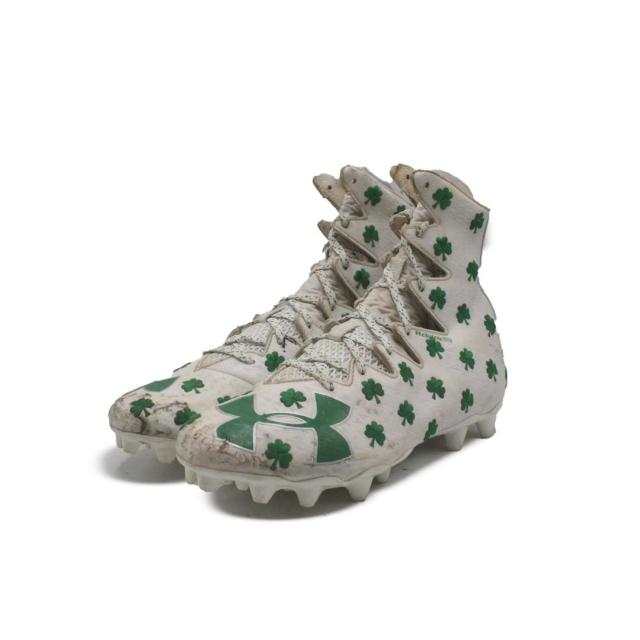uppersole: (172, 169, 489, 475), (107, 171, 414, 437)
